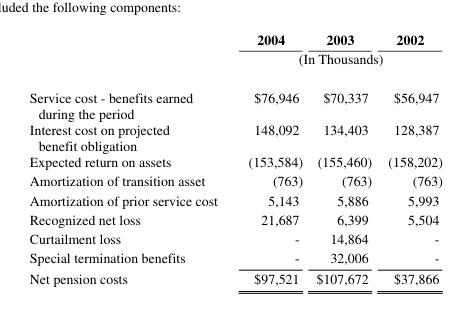table: (28, 29, 441, 286)
table column: (28, 29, 232, 286), (232, 29, 308, 286), (308, 29, 379, 286), (379, 29, 441, 286)
table column header: (28, 29, 441, 77)
table row: (28, 77, 441, 120), (28, 120, 441, 152), (28, 48, 441, 77), (28, 208, 441, 228), (28, 247, 441, 267), (28, 29, 441, 48), (28, 170, 441, 189), (28, 189, 441, 208), (28, 228, 441, 247), (28, 267, 441, 286), (28, 152, 441, 170)
table spanning cell: (232, 48, 441, 77)
